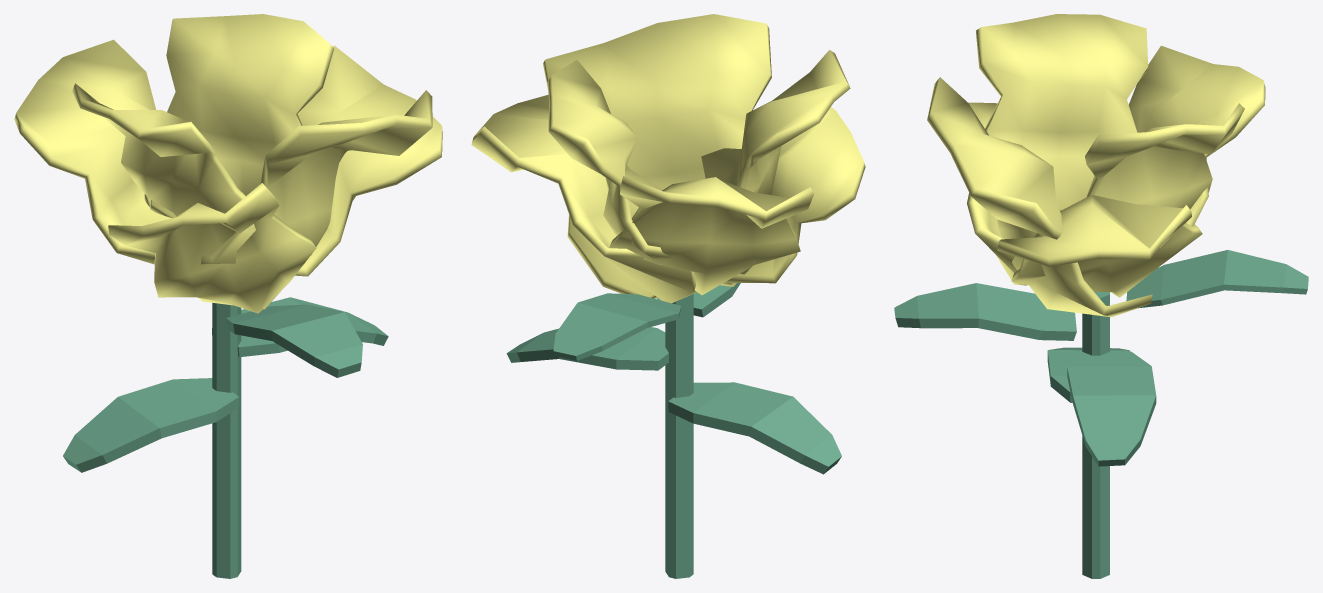
Rendered from YellowFlower.fbx.
The picture shows the model from 3 angles, left to right: view 1: azimuth 30°, elevation 25°; view 2: azimuth 150°, elevation 25°; view 3: azimuth 270°, elevation 25°; orthographic projection. The views are drawn at different scales.
Parts seen in each view (by area): view 1: Plane.001, Plane, Cube, Plane.008, Plane.007; view 2: Plane.001, Plane, Cube, Plane.009, Plane.007, Plane.008; view 3: Plane.001, Plane.007, Plane.008, Plane.009, Cube, Plane.
Boxes of the visible parts, x1,y1,x2,y2 form: Plane.001: (14, 14, 442, 313); Plane: (63, 378, 238, 472); Cube: (212, 303, 241, 578); Plane.008: (226, 304, 362, 377); Plane.007: (212, 297, 388, 357); Plane.001: (471, 14, 865, 303); Plane: (668, 382, 841, 474); Cube: (665, 294, 693, 578); Plane.009: (553, 293, 681, 360); Plane.007: (506, 327, 668, 370); Plane.008: (656, 283, 740, 317); Plane.001: (927, 14, 1265, 317); Plane.007: (1067, 351, 1156, 466); Plane.008: (894, 283, 1076, 340); Plane.009: (1126, 250, 1308, 308); Cube: (1082, 292, 1109, 578); Plane: (1047, 347, 1130, 402).
Size of the model in its own units: 196 by 266 by 199.
